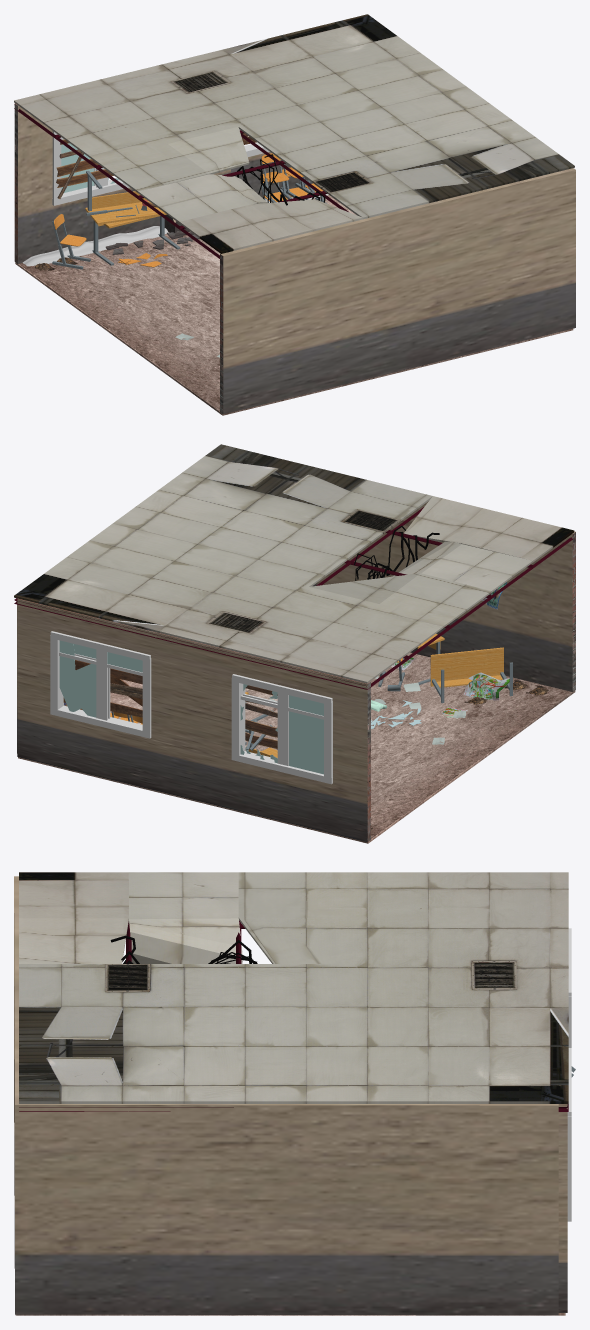
Rendered from day.3.fbx.
The picture shows the model from 3 angles, top to bottom: view 1: azimuth 30°, elevation 25°; view 2: azimuth 150°, elevation 25°; view 3: azimuth 270°, elevation 25°; orthographic projection. The views are drawn at different scales.
Parts seen in each view (by area): view 1: Plane.079, Plane, Plane.012, Plane.015, Plane.028, Plane.078, Plane.017, Cube, Plane.045, Plane.030, Plane.044, Plane.019 (+1 smaller); view 2: Plane.079, Plane.015, Plane.012, Plane, Cube, Cube.001, Plane.078, Plane.043, Plane.021, Plane.027, Plane.065, Plane.030; view 3: Plane.079, Plane, Plane.015, Cube.001, Plane.078, Plane.012.
Part boxes in pixels (x1,y1,x2,y2): Plane.079: (14,14,574,253); Plane: (220,168,575,414); Plane.012: (15,195,573,415); Plane.015: (14,103,312,263); Plane.028: (85,171,166,224); Plane.078: (14,104,348,259); Plane.017: (22,226,168,266); Cube: (52,131,129,205); Plane.045: (52,213,90,269); Plane.030: (56,139,113,187); Plane.044: (92,215,180,265); Plane.019: (105,231,199,254); Plane.079: (14,444,574,683); Plane.015: (17,598,370,842); Plane.012: (18,652,575,843); Plane: (17,501,575,753); Cube: (231,674,332,784); Cube.001: (50,631,151,738); Plane.078: (14,507,573,689); Plane.043: (430,647,512,703); Plane.021: (289,695,323,774); Plane.027: (59,640,96,717); Plane.065: (463,672,509,700); Plane.030: (245,685,277,748); Plane.079: (19,872,568,1103); Plane: (14,876,558,1315); Plane.015: (558,1104,567,1312); Cube.001: (567,1048,571,1221); Plane.078: (19,920,568,1111); Plane.012: (15,1313,565,1315).
Bounding box in the file's own units: 2353 × 1107 × 2436.
